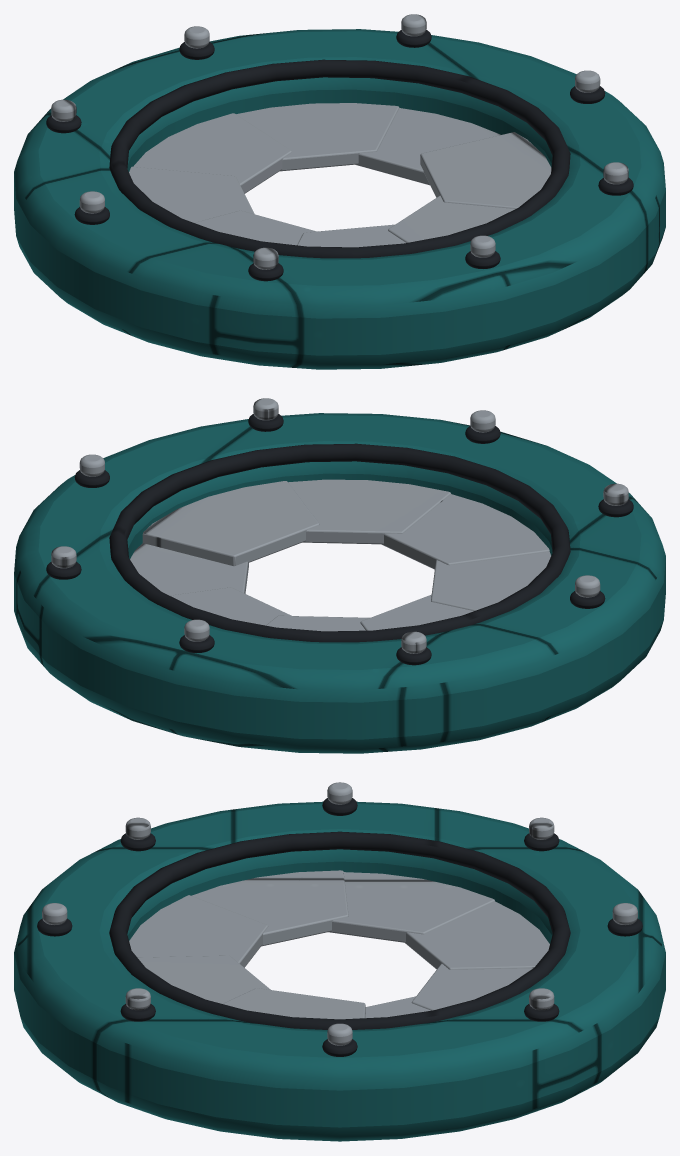
The model's file is ops_sensor_iris_lod0.glb.
The picture shows the model from 3 angles, top to bottom: view 1: azimuth 30°, elevation 25°; view 2: azimuth 150°, elevation 25°; view 3: azimuth 270°, elevation 25°; orthographic projection.
Visible parts, largest first — view 1: LOD0_Armor, LOD0_MechanicalDark, LOD0_MOTION_IRIS_LEAF_07_BrushedMetal, LOD0_MOTION_IRIS_LEAF_01_BrushedMetal, LOD0_MOTION_IRIS_LEAF_02_BrushedMetal, LOD0_MOTION_IRIS_LEAF_00_BrushedMetal, LOD0_MOTION_IRIS_LEAF_03_BrushedMetal, LOD0_BrushedMetal, LOD0_MOTION_IRIS_LEAF_06_BrushedMetal, LOD0_MOTION_IRIS_LEAF_04_BrushedMetal, LOD0_MOTION_IRIS_LEAF_05_BrushedMetal; view 2: LOD0_Armor, LOD0_MechanicalDark, LOD0_MOTION_IRIS_LEAF_07_BrushedMetal, LOD0_MOTION_IRIS_LEAF_06_BrushedMetal, LOD0_MOTION_IRIS_LEAF_05_BrushedMetal, LOD0_MOTION_IRIS_LEAF_04_BrushedMetal, LOD0_BrushedMetal, LOD0_MOTION_IRIS_LEAF_00_BrushedMetal, LOD0_MOTION_IRIS_LEAF_01_BrushedMetal, LOD0_MOTION_IRIS_LEAF_03_BrushedMetal, LOD0_MOTION_IRIS_LEAF_02_BrushedMetal; view 3: LOD0_Armor, LOD0_MechanicalDark, LOD0_MOTION_IRIS_LEAF_03_BrushedMetal, LOD0_MOTION_IRIS_LEAF_04_BrushedMetal, LOD0_MOTION_IRIS_LEAF_02_BrushedMetal, LOD0_MOTION_IRIS_LEAF_05_BrushedMetal, LOD0_BrushedMetal, LOD0_MOTION_IRIS_LEAF_06_BrushedMetal, LOD0_MOTION_IRIS_LEAF_01_BrushedMetal, LOD0_MOTION_IRIS_LEAF_07_BrushedMetal, LOD0_MOTION_IRIS_LEAF_00_BrushedMetal.
Boxes of the visible parts, box(x1,y1,x2,y2) form: LOD0_Armor: box(14, 29, 665, 369); LOD0_MechanicalDark: box(46, 30, 633, 281); LOD0_MOTION_IRIS_LEAF_07_BrushedMetal: box(420, 132, 551, 208); LOD0_MOTION_IRIS_LEAF_01_BrushedMetal: box(236, 103, 399, 171); LOD0_MOTION_IRIS_LEAF_02_BrushedMetal: box(133, 113, 291, 193); LOD0_MOTION_IRIS_LEAF_00_BrushedMetal: box(355, 108, 500, 185); LOD0_MOTION_IRIS_LEAF_03_BrushedMetal: box(129, 166, 254, 222); LOD0_BrushedMetal: box(51, 14, 628, 269); LOD0_MOTION_IRIS_LEAF_06_BrushedMetal: box(388, 195, 515, 242); LOD0_MOTION_IRIS_LEAF_04_BrushedMetal: box(195, 210, 316, 245); LOD0_MOTION_IRIS_LEAF_05_BrushedMetal: box(297, 224, 405, 247); LOD0_Armor: box(14, 413, 665, 753); LOD0_MechanicalDark: box(46, 414, 633, 665); LOD0_MOTION_IRIS_LEAF_07_BrushedMetal: box(142, 481, 319, 566); LOD0_MOTION_IRIS_LEAF_06_BrushedMetal: box(288, 479, 450, 544); LOD0_MOTION_IRIS_LEAF_05_BrushedMetal: box(381, 494, 549, 569); LOD0_MOTION_IRIS_LEAF_04_BrushedMetal: box(431, 551, 550, 610); LOD0_BrushedMetal: box(51, 398, 628, 653); LOD0_MOTION_IRIS_LEAF_00_BrushedMetal: box(130, 543, 248, 595); LOD0_MOTION_IRIS_LEAF_01_BrushedMetal: box(170, 587, 291, 625); LOD0_MOTION_IRIS_LEAF_03_BrushedMetal: box(360, 594, 473, 630); LOD0_MOTION_IRIS_LEAF_02_BrushedMetal: box(266, 615, 369, 631); LOD0_Armor: box(14, 801, 665, 1141); LOD0_MechanicalDark: box(37, 798, 642, 1056); LOD0_MOTION_IRIS_LEAF_03_BrushedMetal: box(328, 872, 494, 942); LOD0_MOTION_IRIS_LEAF_04_BrushedMetal: box(191, 870, 348, 946); LOD0_MOTION_IRIS_LEAF_02_BrushedMetal: box(405, 901, 549, 969); LOD0_MOTION_IRIS_LEAF_05_BrushedMetal: box(129, 895, 268, 967); LOD0_BrushedMetal: box(42, 782, 637, 1045); LOD0_MOTION_IRIS_LEAF_06_BrushedMetal: box(137, 955, 270, 1003); LOD0_MOTION_IRIS_LEAF_01_BrushedMetal: box(411, 963, 532, 1010); LOD0_MOTION_IRIS_LEAF_07_BrushedMetal: box(223, 988, 365, 1019); LOD0_MOTION_IRIS_LEAF_00_BrushedMetal: box(365, 996, 430, 1018).
Size of the model in its own units: 1.6 by 0.285 by 1.6.
3 materials, 3 textured.
